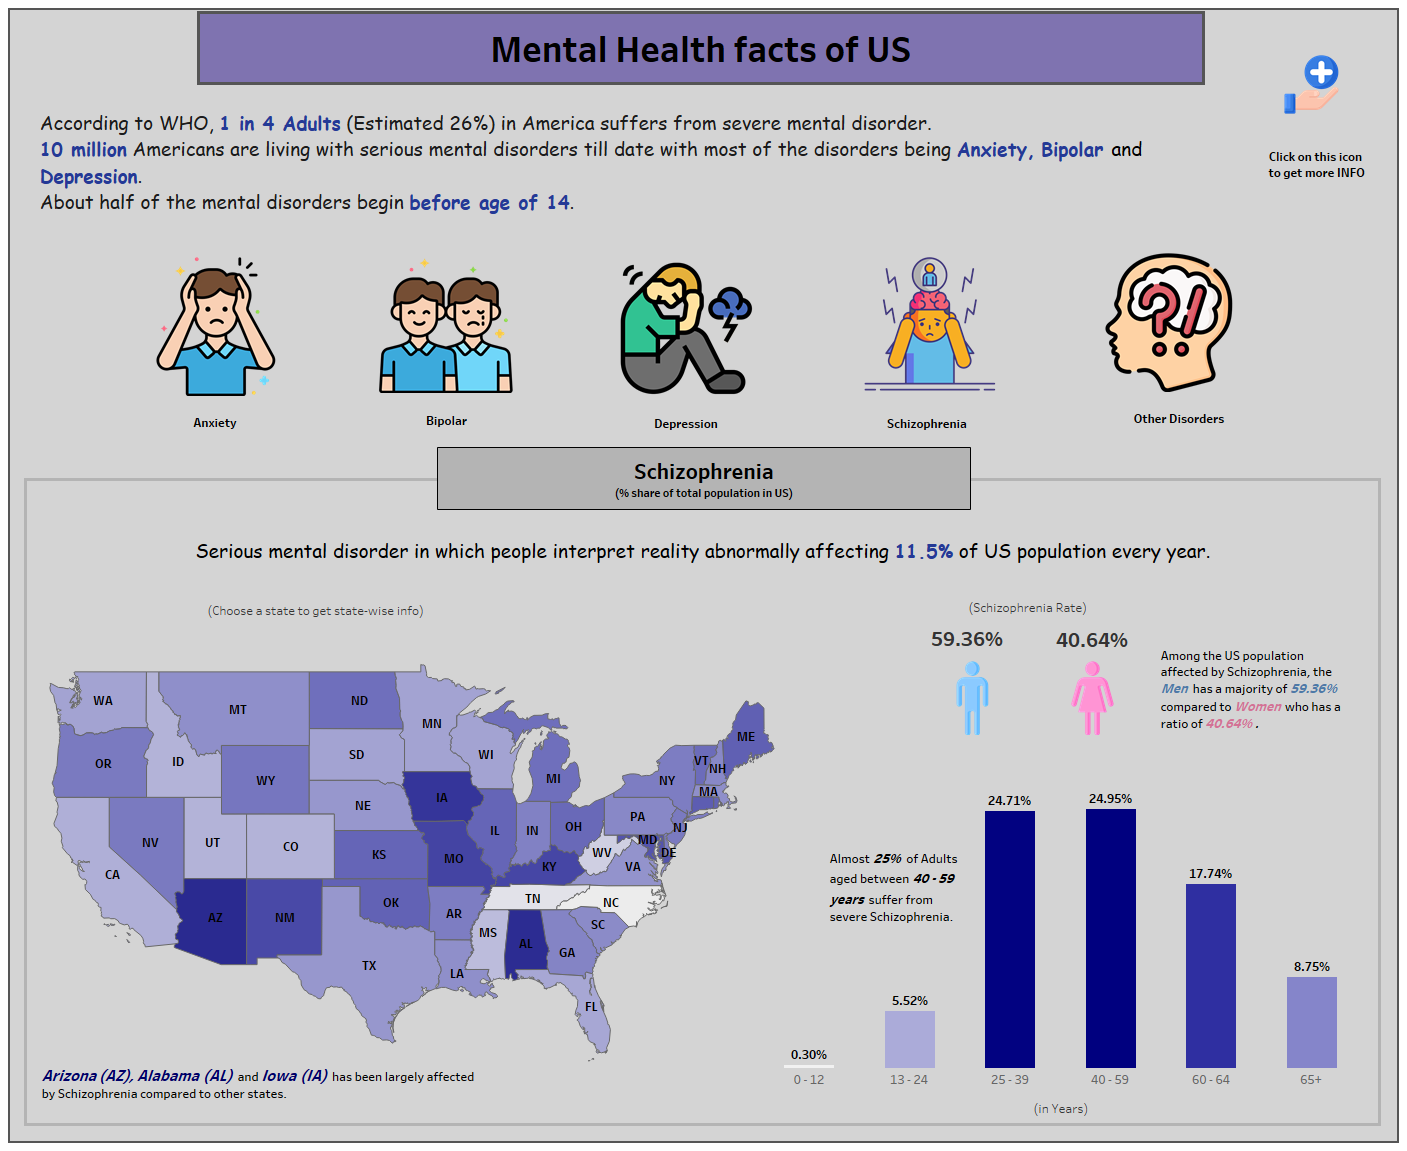

The dashboard page shown, as its layout file describes it:
{"tool":"tableau","page":{"name":"Dashboard 7_1_3","canvas":[1407,1151],"ordinal":2},"visuals":[{"type":"text","box":[241,11,932,71]},{"type":"image","param":"Image/medical-services.png","box":[1279,52,65,64]},{"type":"text","box":[37,89,1118,148]},{"type":"text","box":[1260,121,111,87]},{"type":"dashboard-object","box":[860.2,247.5,139.3,151.5]},{"type":"dashboard-object","box":[1098.8,248.9,139.3,147.4]},{"type":"dashboard-object","box":[377.9,252.9,135,146.1]},{"type":"dashboard-object","box":[616.5,252.9,139.3,150.1]},{"type":"dashboard-object","box":[146,254.3,139.3,144.7]},{"type":"text","box":[1113,400,132,36]},{"type":"text","box":[400.8,400.4,91.7,39.2]},{"type":"text","box":[169,401.7,91.7,40.6]},{"type":"text","box":[871,402,112,42]},{"type":"text","box":[640.2,404.4,91.7,37.9]},{"type":"text","box":[437,452,534,63]},{"type":"filter","title":"Depression_Map","param":"[federated.1oxck0e0dr8f3q0ztqk171cwpb6l].[none:LocationDesc:nk]","box":[22,479,1363,648]},{"type":"blank","box":[27,485,1360,637]},{"type":"text","box":[81,516,1244,84]},{"type":"text","box":[205,581,339,58]},{"type":"text","box":[966,582,155,50]},{"type":"image","param":"Image/female.png","box":[1055,588,74,220]},{"type":"text","box":[1183,592,193,155]},{"type":"image","param":"Image/male.png","box":[935,605,74,188]},{"type":"worksheet","title":"Male_Depression","mark":"Automatic","box":[928,627,118,38]},{"type":"worksheet","title":"Female_Depression","mark":"Automatic","box":[1047,627,106,34]},{"type":"worksheet","title":"Depression_Map","mark":"Multipolygon","box":[30,671,721,414]},{"type":"text","box":[1227,749,151,120]},{"type":"worksheet","title":"Depression_Bar","mark":"Automatic","rows":["BipolarCount (copy)_202943526286426114"],"cols":["Age"],"box":[772,767,600,315]},{"type":"text","box":[39,1039,443,90]},{"type":"text","box":[1034,1076,100,30]}]}

Visuals, with their boxes in screenshot pixels (x1, y1, x2, y2), scaled from the page's 1407x1151 canvas onto the 1407x1151 screenshot:
text: 241, 11, 1173, 82
image: 1279, 52, 1344, 116
text: 37, 89, 1155, 237
text: 1260, 121, 1371, 208
dashboard-object: 860, 248, 1000, 399
dashboard-object: 1099, 249, 1238, 396
dashboard-object: 378, 253, 513, 399
dashboard-object: 616, 253, 756, 403
dashboard-object: 146, 254, 285, 399
text: 1113, 400, 1245, 436
text: 401, 400, 492, 440
text: 169, 402, 261, 442
text: 871, 402, 983, 444
text: 640, 404, 732, 442
text: 437, 452, 971, 515
"Depression_Map" filter: 22, 479, 1385, 1127
blank: 27, 485, 1387, 1122
text: 81, 516, 1325, 600
text: 205, 581, 544, 639
text: 966, 582, 1121, 632
image: 1055, 588, 1129, 808
text: 1183, 592, 1376, 747
image: 935, 605, 1009, 793
"Male_Depression" worksheet: 928, 627, 1046, 665
"Female_Depression" worksheet: 1047, 627, 1153, 661
"Depression_Map" worksheet (Multipolygon marks): 30, 671, 751, 1085
text: 1227, 749, 1378, 869
"Depression_Bar" worksheet: 772, 767, 1372, 1082
text: 39, 1039, 482, 1129
text: 1034, 1076, 1134, 1106
